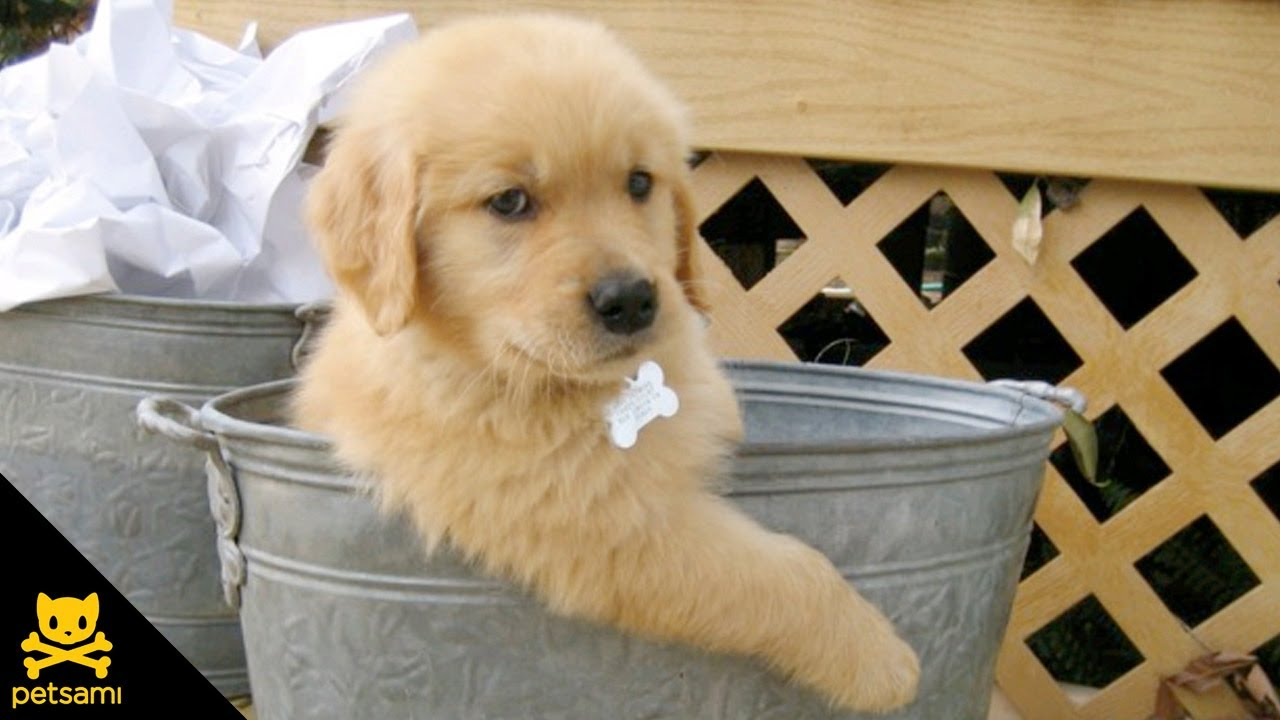dog: (249, 16, 929, 663)
